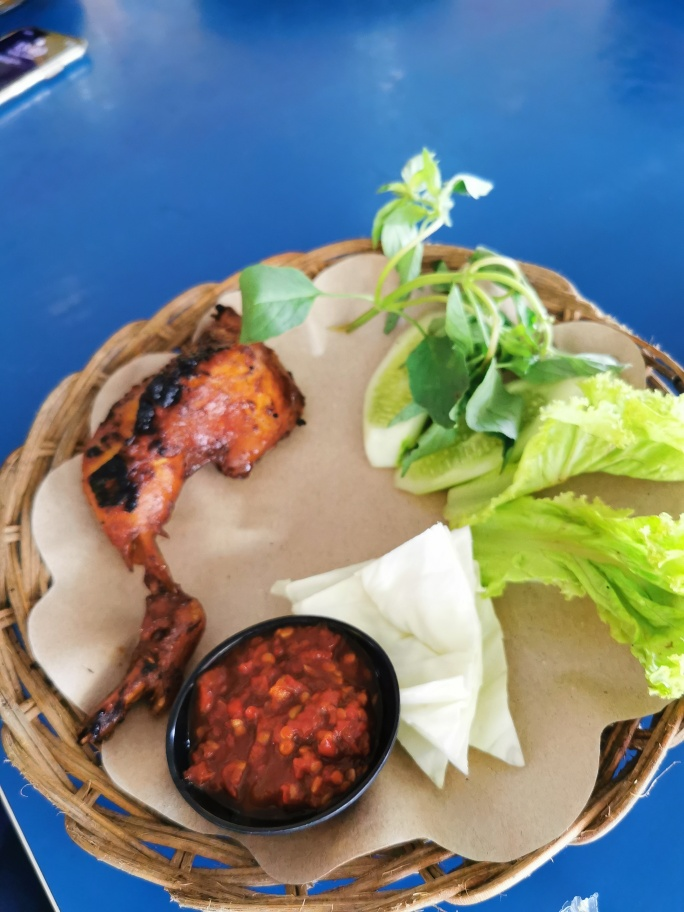ayam bakar: (56, 298, 308, 742)
